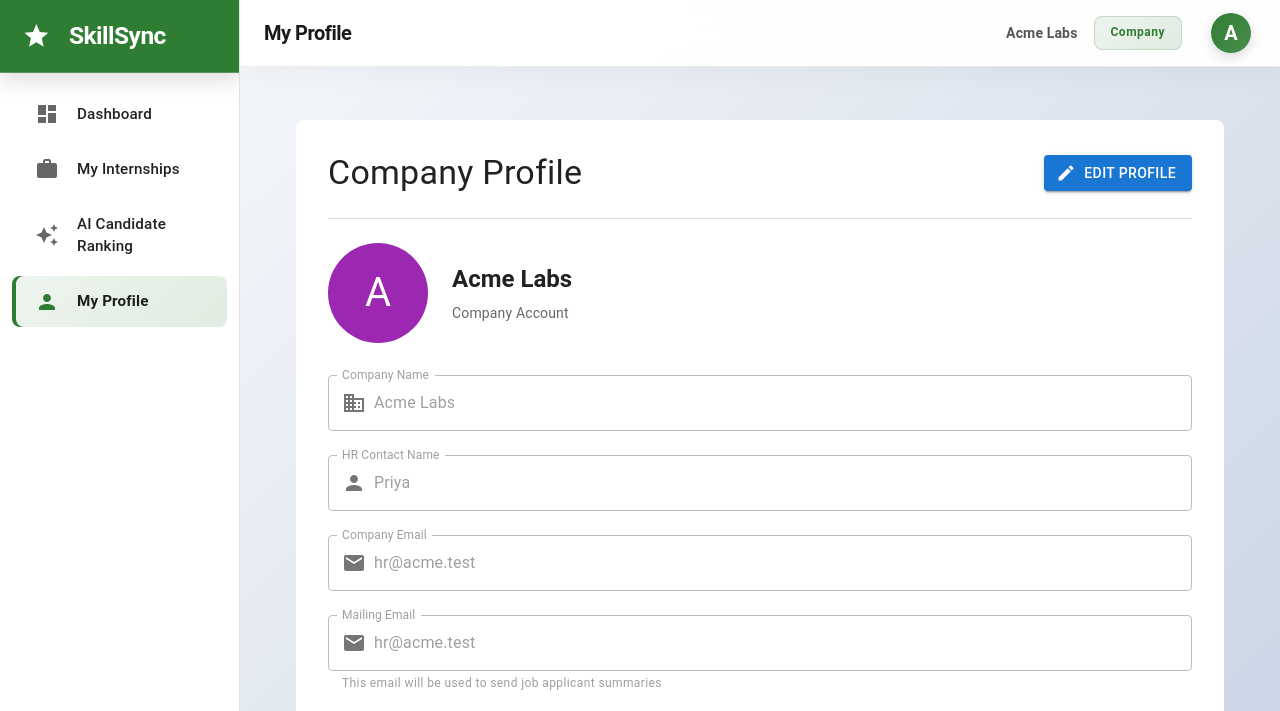
Test case: editing and saving sends the form as a profile update
Click the button "Edit Profile" at {"x": 1118, "y": 173}, box top-left (1044, 155), bottom-right (1192, 191)
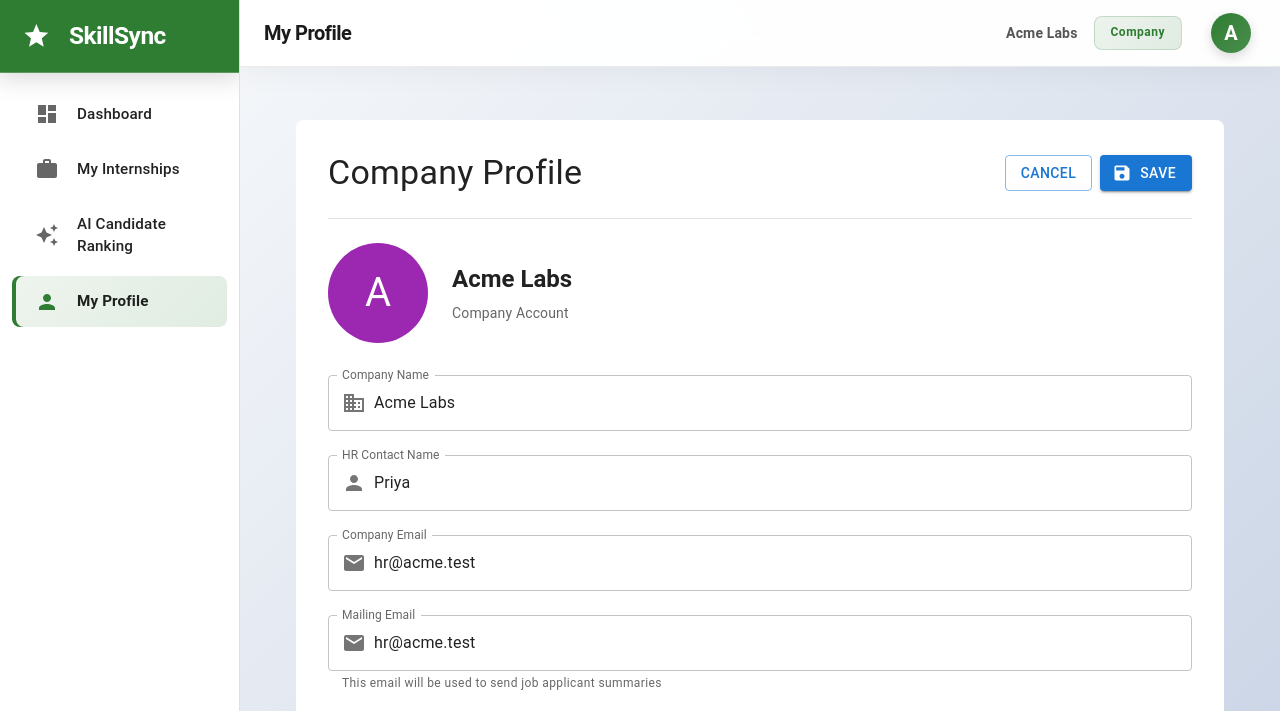
Replace the text in the field labelled "HR Contact Name" with "Ravi" at {"x": 783, "y": 483}, box top-left (374, 455), bottom-right (1192, 511)
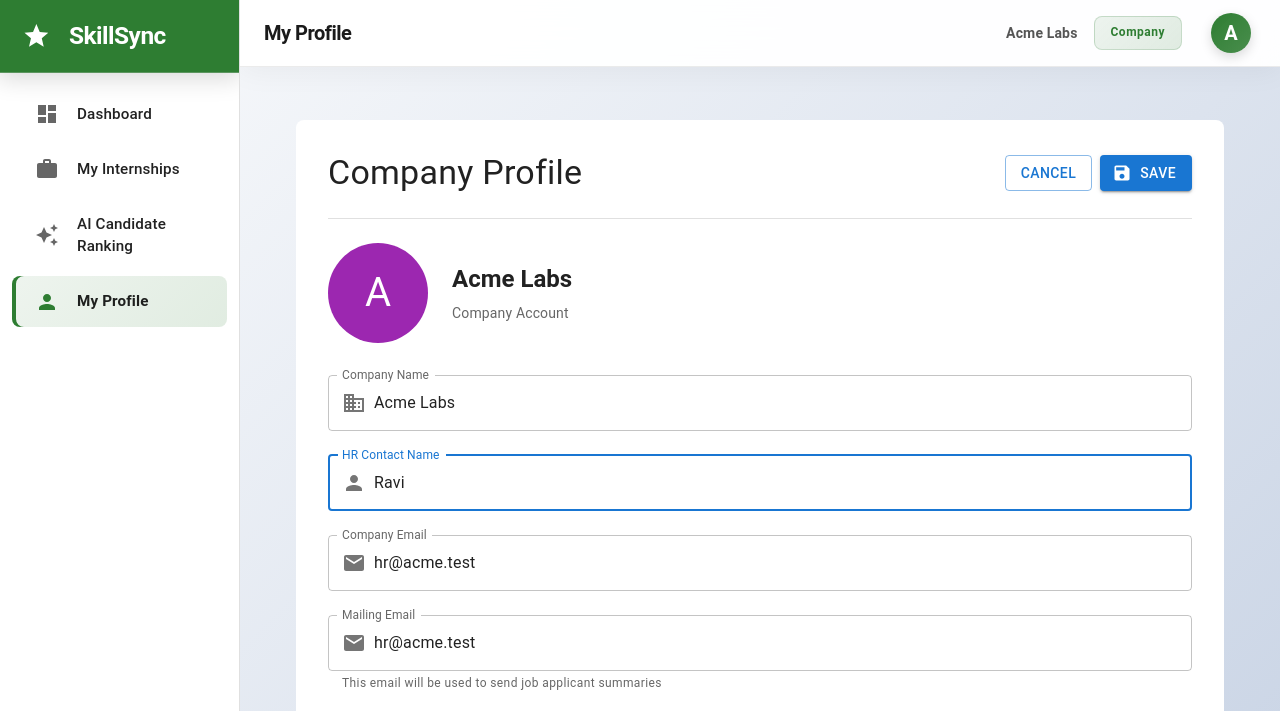
Click the button "Save" at {"x": 1146, "y": 173}, box top-left (1100, 155), bottom-right (1192, 191)
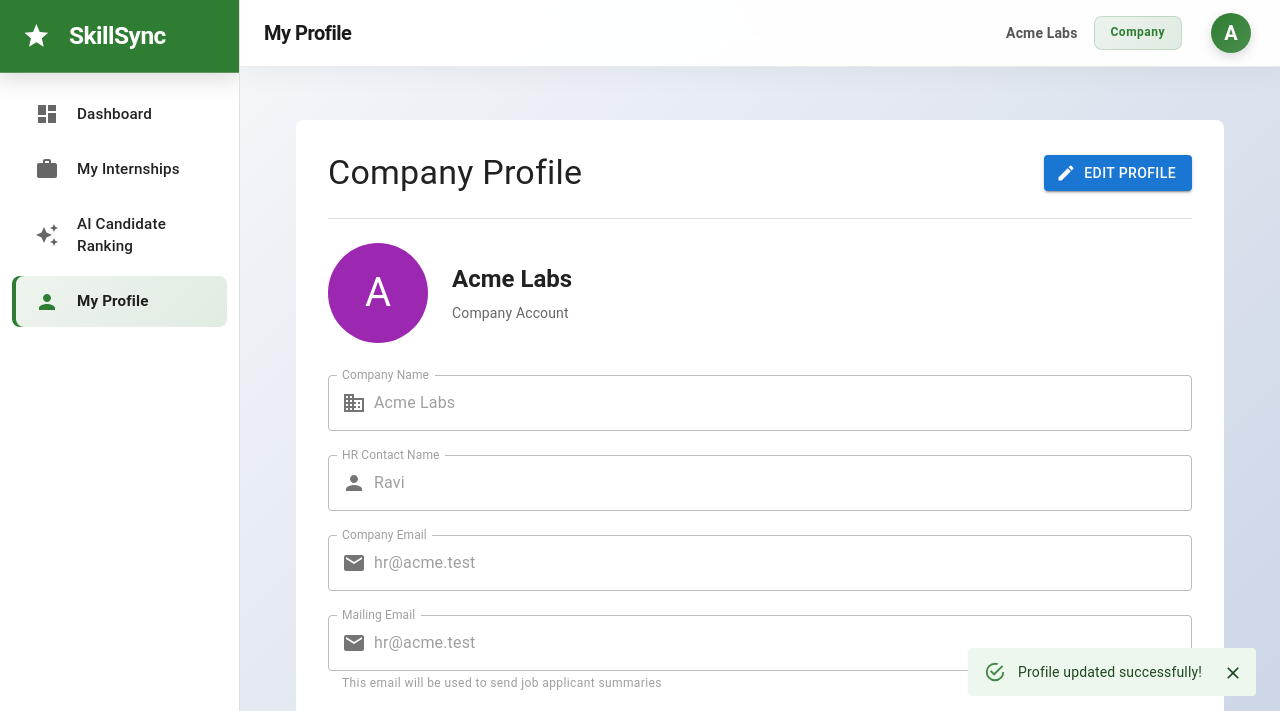
Now the text "Profile updated successfully!" is shown, box top-left (1018, 664), bottom-right (1202, 680)
Now the field labelled "HR Contact Name" is disabled, box top-left (374, 455), bottom-right (1192, 511)
